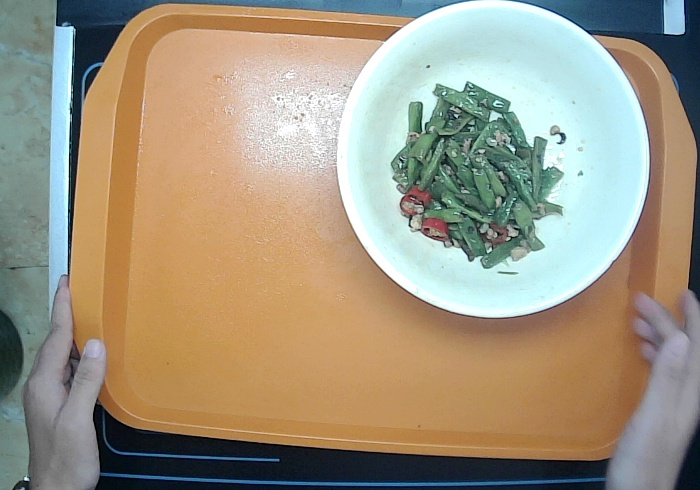ZNLD-Da_Tang_Wan: (330, 1, 659, 328)
